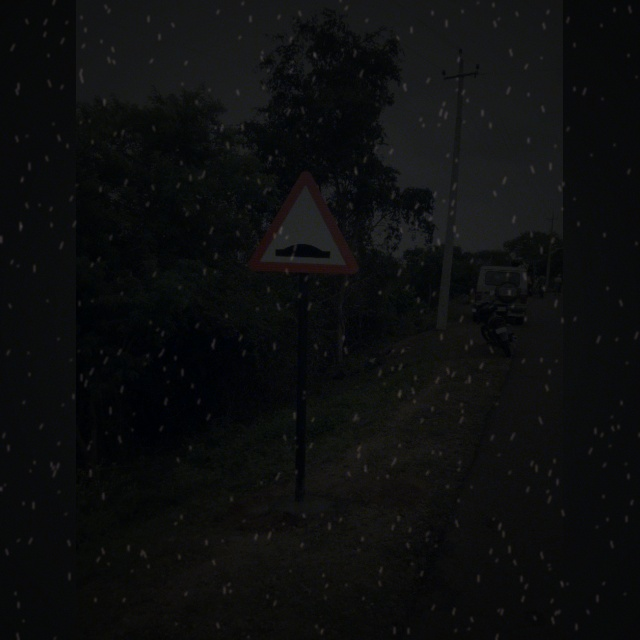Dangerous_Dip: (247, 172, 360, 274)
